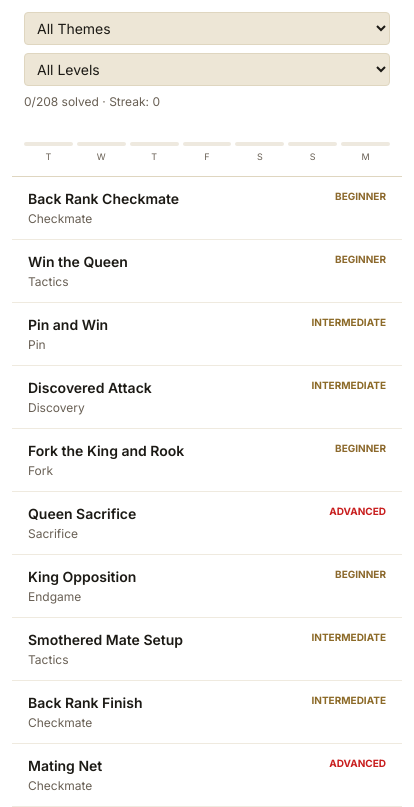
Test: PuzzlesPage › theme filter narrows the puzzle list
Expected: the text "Back Rank Checkmate" is shown, [28,188,179,208]
Select "Fork" in the 1st dropdown at (207, 28), box [24,12,390,45]
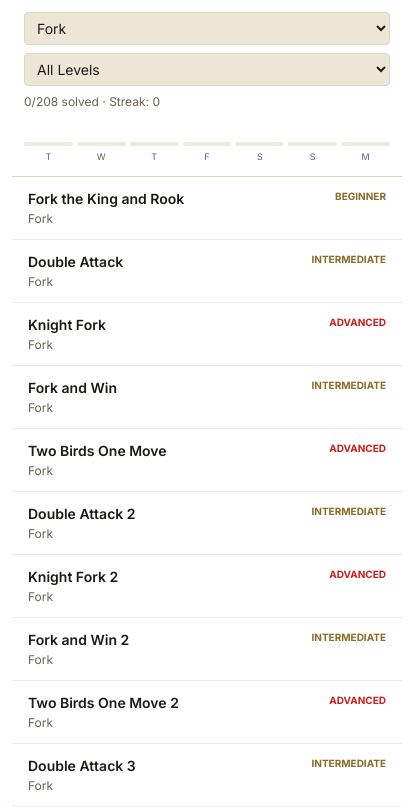
Expected: the text "Fork the King and Rook" is shown, [28,188,184,208]
Result: the button "Back Rank Checkmate" is gone
